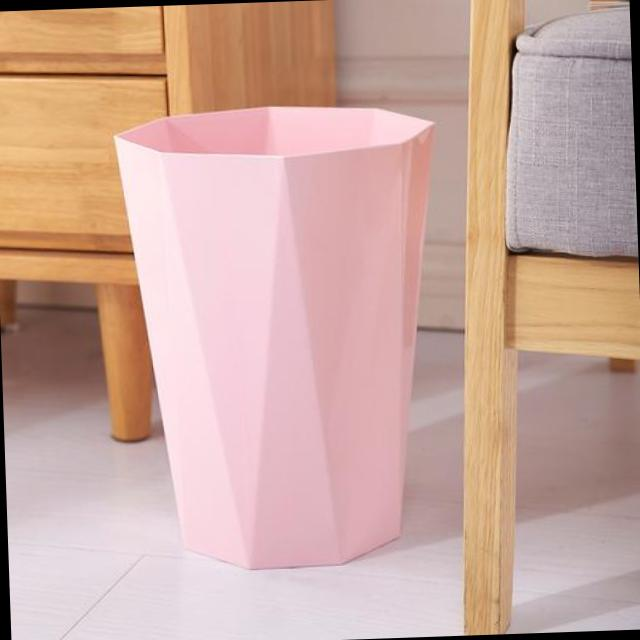dustbin: (108, 95, 454, 578)
